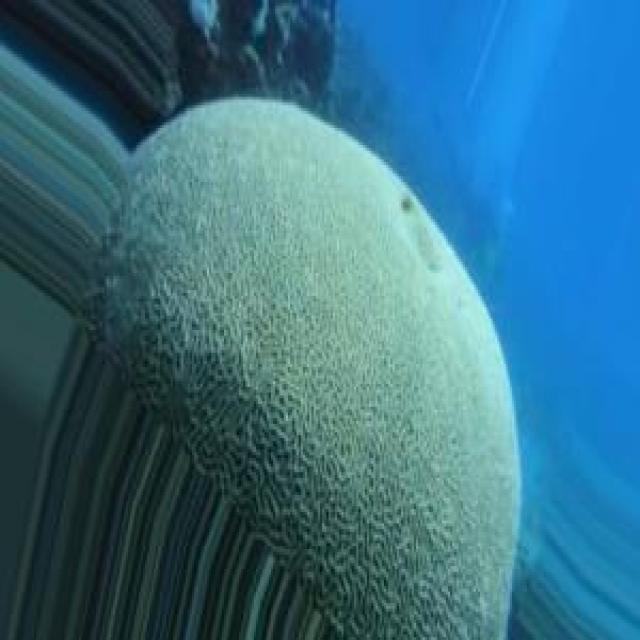Bleached: (95, 98, 519, 638)
